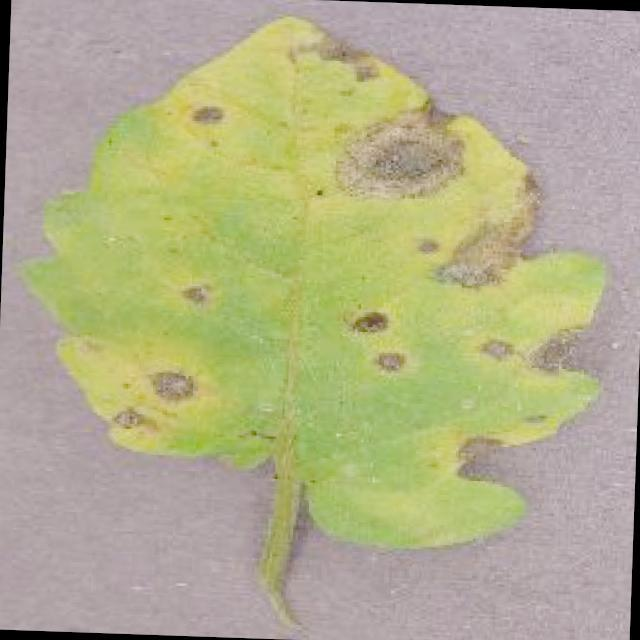Tomato Septoria spot leaf: (14, 4, 610, 560)
